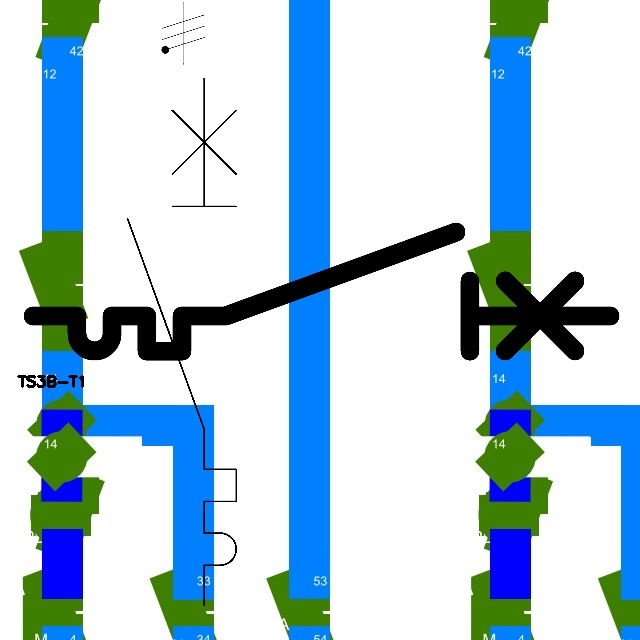interruptor_termomagnetico: (18, 217, 625, 366), (114, 64, 250, 618)
